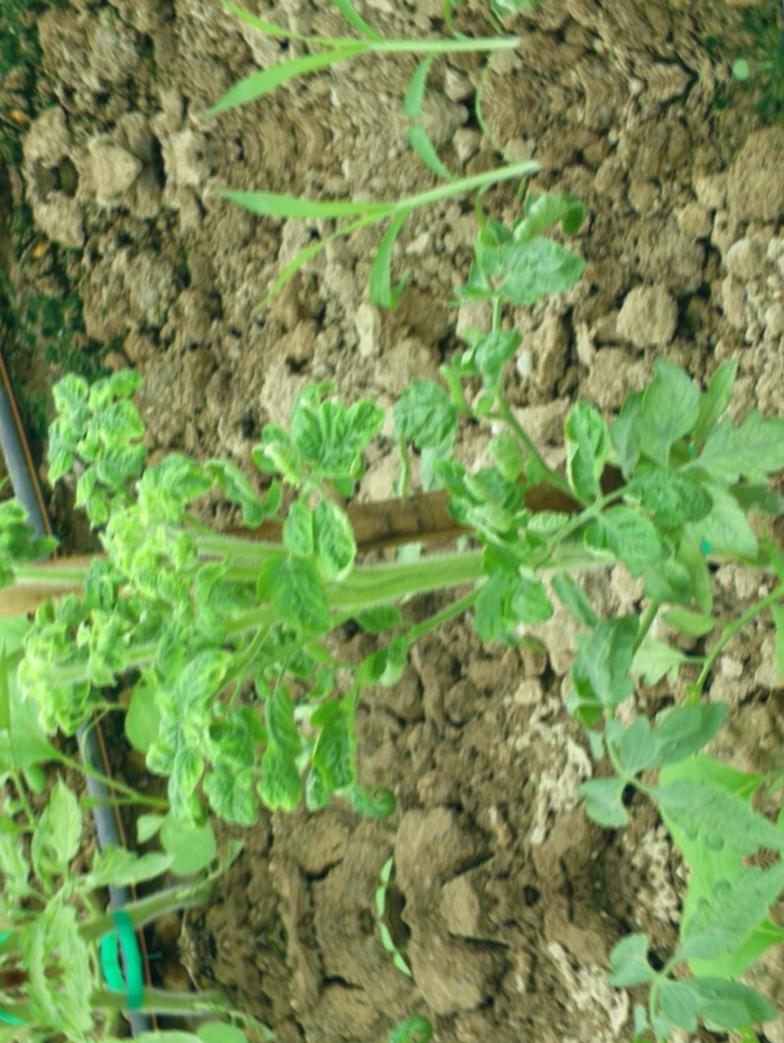Tomato leaf: (653, 752, 784, 874), (666, 394, 784, 498), (286, 374, 392, 479), (250, 531, 339, 655), (604, 686, 720, 775), (484, 218, 595, 310), (383, 374, 477, 454)
